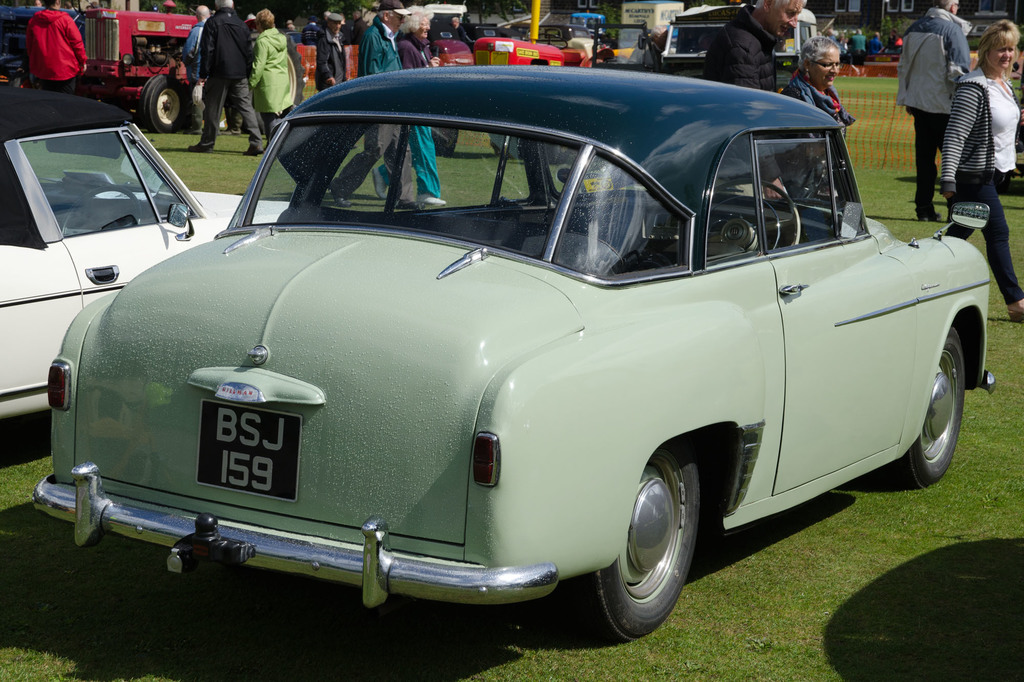Car: (35, 62, 998, 650), (0, 88, 288, 420)
